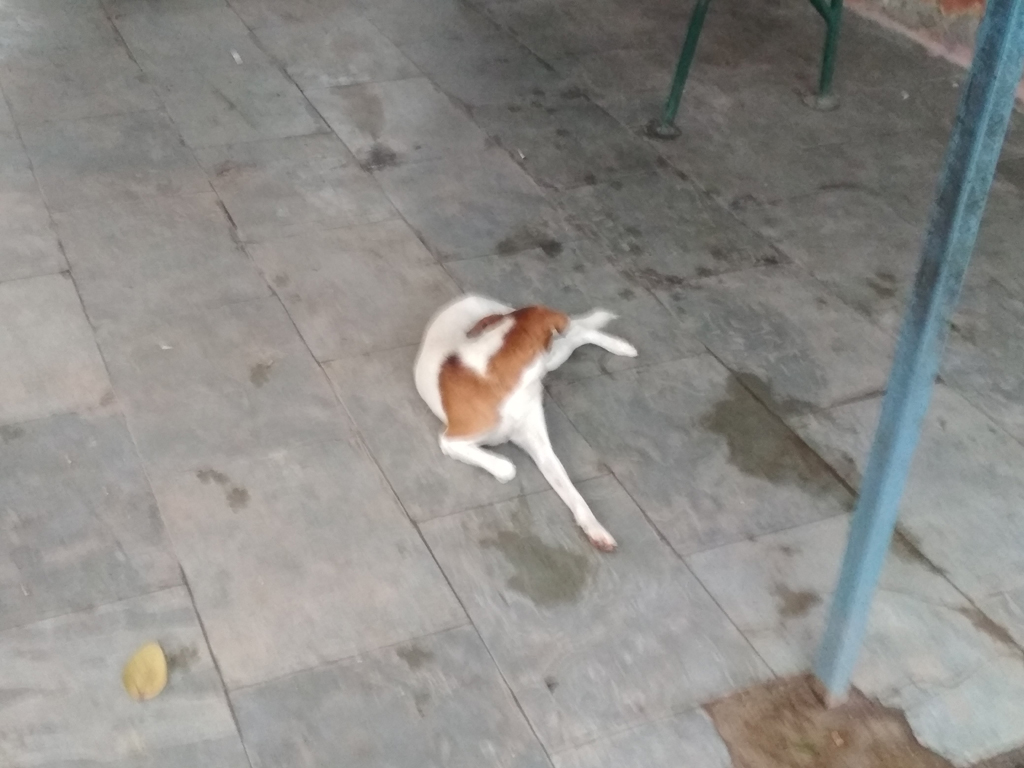dog: (414, 291, 637, 551)
